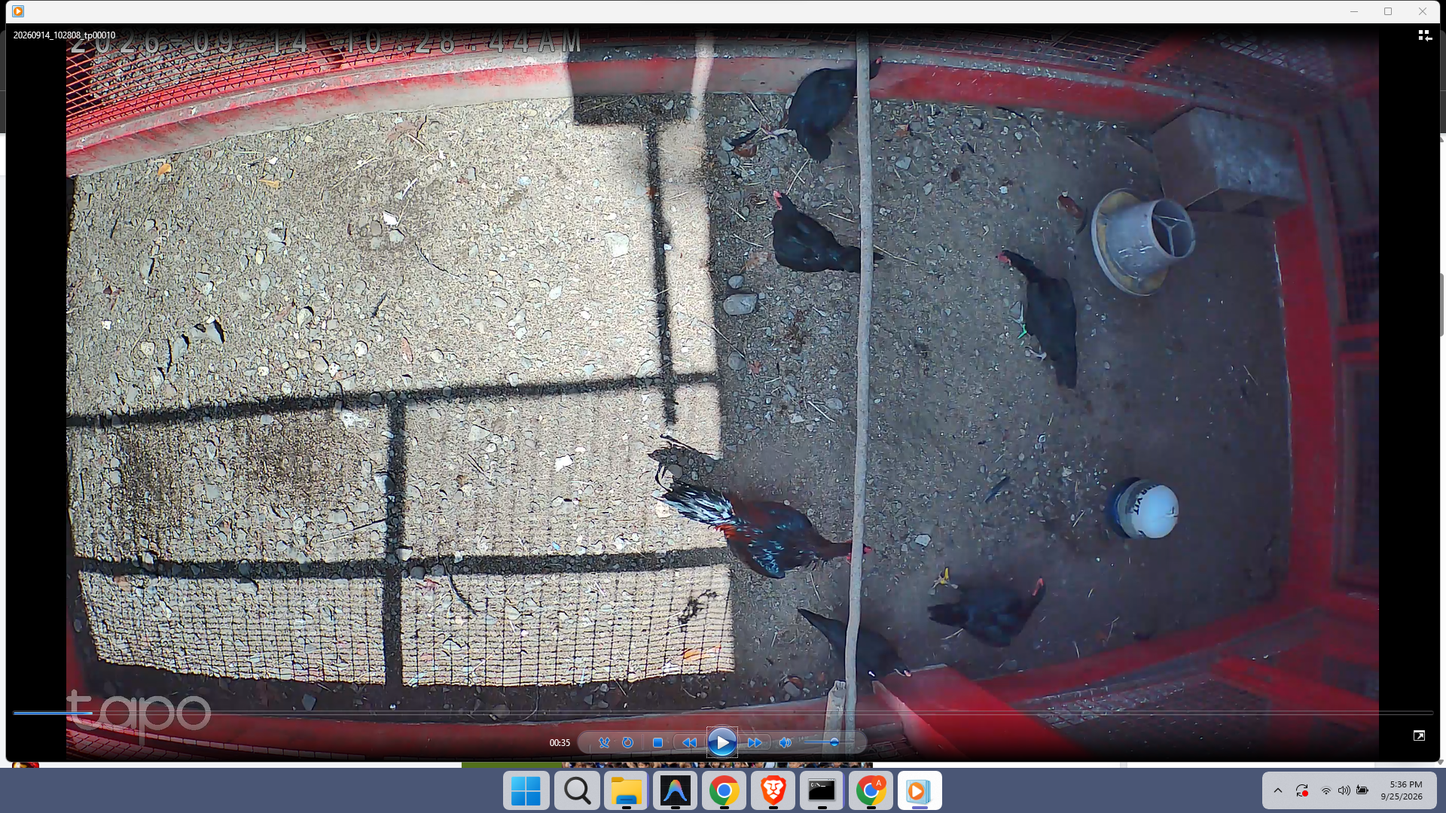Chicken: (758, 51, 885, 162), (996, 250, 1084, 390), (930, 563, 1050, 650), (767, 187, 885, 275), (799, 605, 917, 680)
Drinker: (1108, 476, 1179, 539)
Feeder: (1092, 187, 1198, 297)
Rooster: (650, 480, 869, 580)
